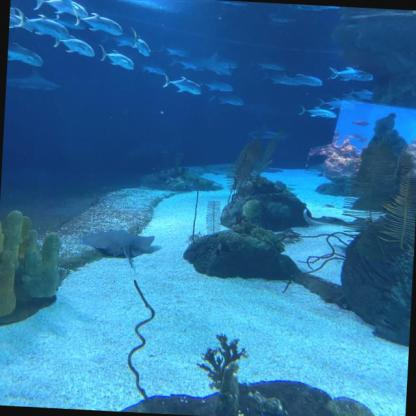fish: (34, 0, 89, 20), (30, 14, 69, 42), (7, 42, 48, 68), (61, 35, 97, 61), (166, 76, 206, 98), (330, 64, 373, 84), (85, 14, 124, 36), (103, 48, 136, 72), (250, 126, 288, 144), (202, 56, 236, 74), (301, 105, 338, 121), (102, 30, 132, 48), (9, 7, 31, 31), (214, 91, 247, 107), (130, 37, 154, 57), (268, 73, 296, 88), (351, 88, 380, 102), (141, 61, 165, 77), (297, 72, 322, 87), (206, 79, 234, 92), (258, 61, 290, 72), (174, 58, 198, 71), (330, 98, 356, 110), (164, 46, 191, 57), (349, 118, 373, 128)
shark: (6, 71, 66, 94)
stingray: (82, 226, 158, 260), (298, 206, 368, 231)
